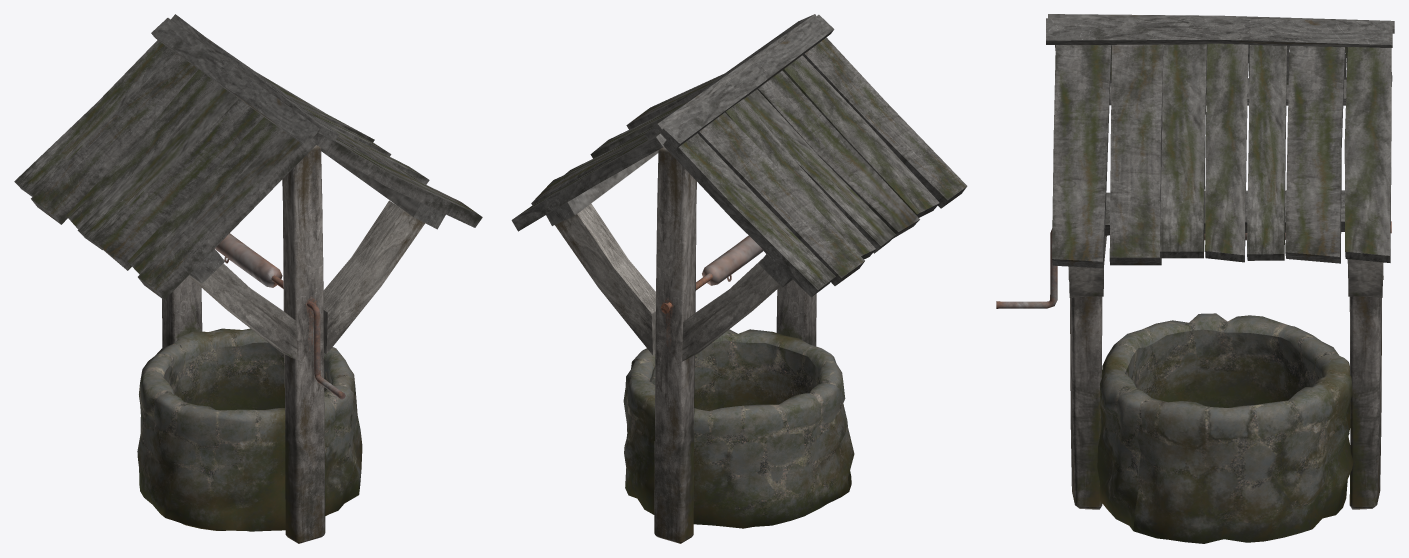
Rendered from old_village_well.glb.
3 views of the same model, side by side, from view 1: azimuth 30°, elevation 25°; view 2: azimuth 150°, elevation 25°; view 3: azimuth 270°, elevation 25° (orthographic). The views are drawn at different scales.
Parts seen in each view (by area): view 1: SM_OldWell; view 2: SM_OldWell; view 3: SM_OldWell.
Part boxes in pixels (x1,y1,x2,y2): SM_OldWell: [14, 14, 482, 543]; SM_OldWell: [511, 14, 967, 543]; SM_OldWell: [996, 14, 1394, 543].
Bounding box in the file's own units: 2.46 × 3.09 × 2.3.
Materials: 1 (1 with a texture image).
